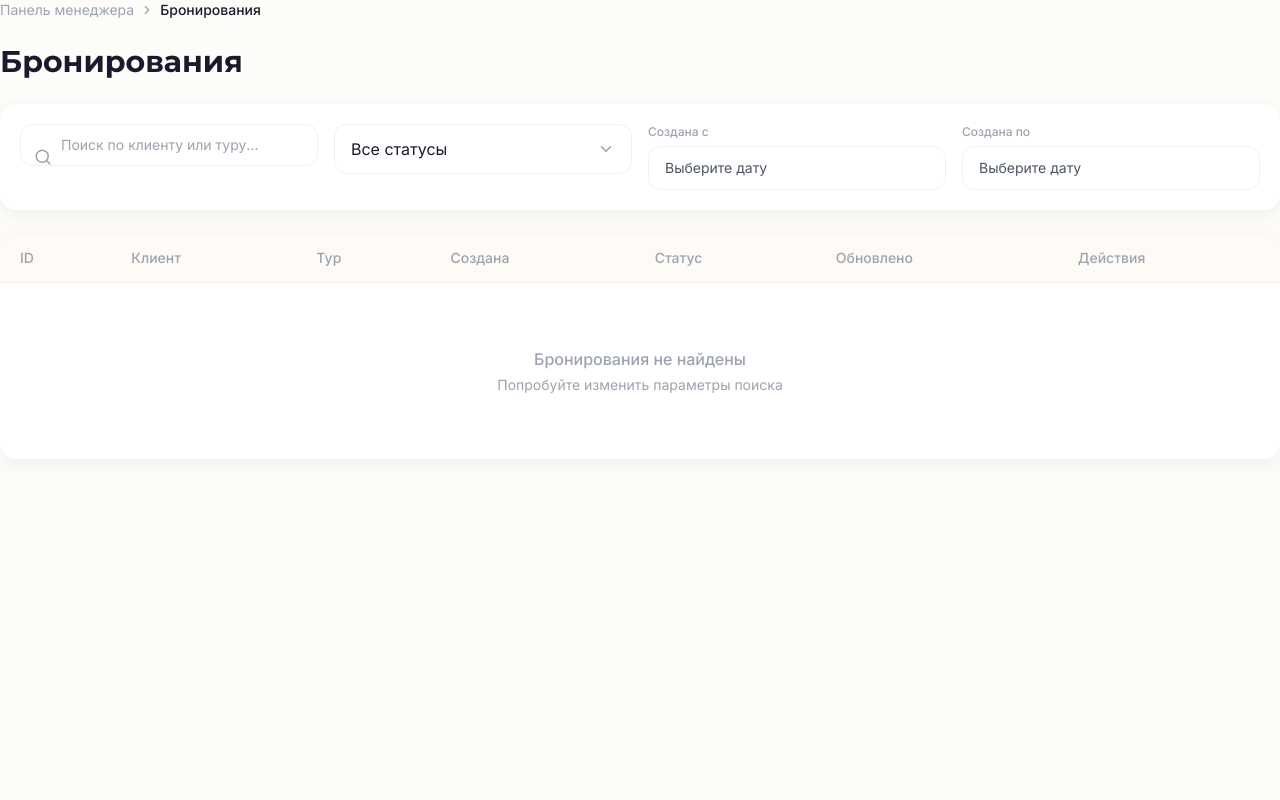
Test: ManagerBookingsPage dates › filters by a calendar day instead of a native date input
expect the heading "Бронирования" is shown: met, box [0,43,243,80]
Click the button named "Создана с": coordinates (716, 168) [648,146,946,190]
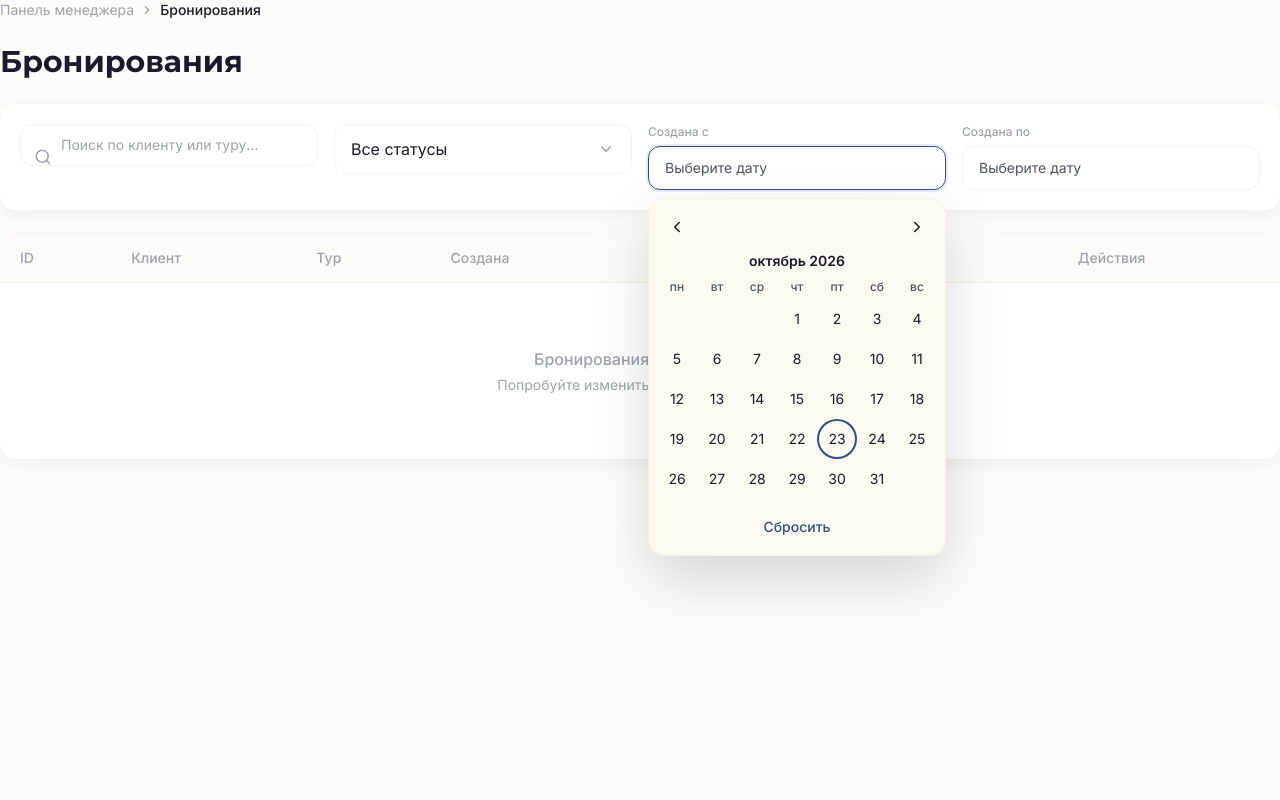
expect the dialog named "Выбор даты" is shown: met, box [648,198,946,556]
Click the cell named "1 октября 2026": coordinates (797, 319) [777,299,817,339]
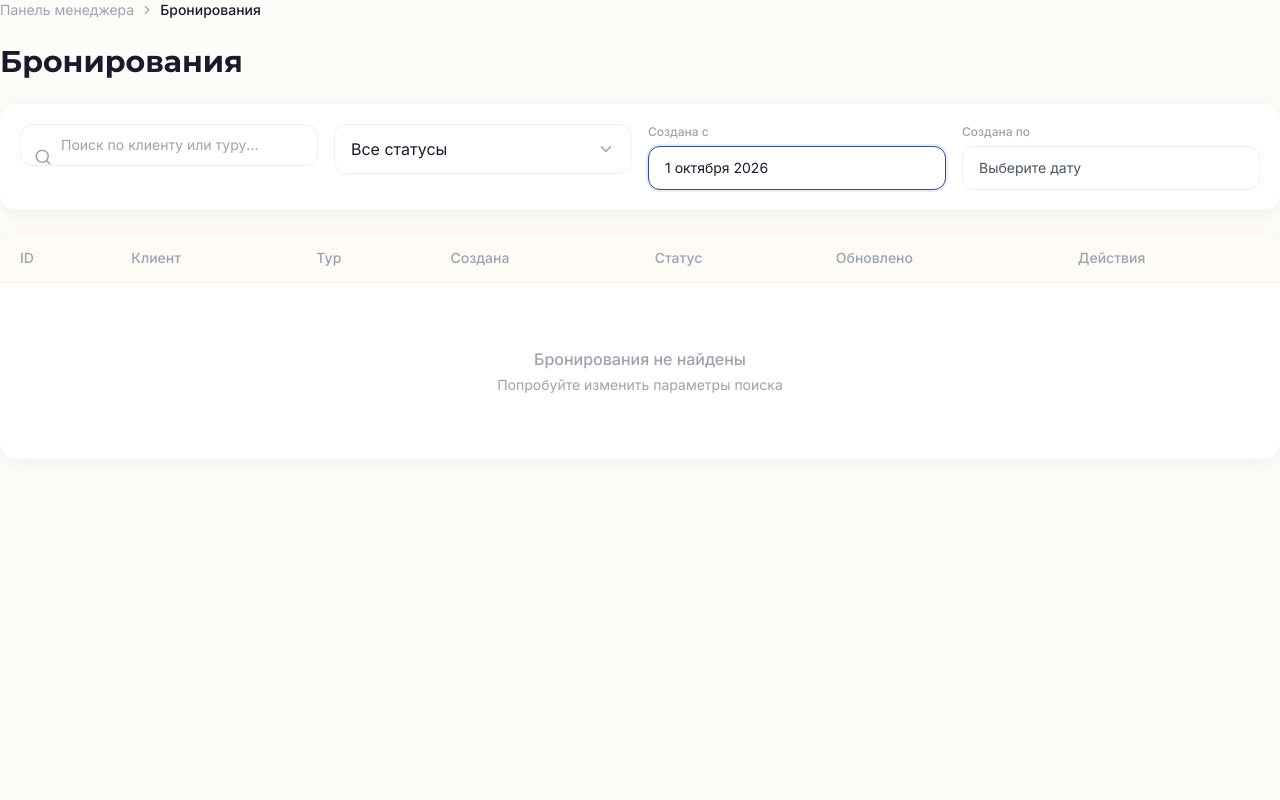
expect the button named "Создана с" reads "1 октября 2026": met, box [648,146,946,190]
expect the dialog is gone: met
